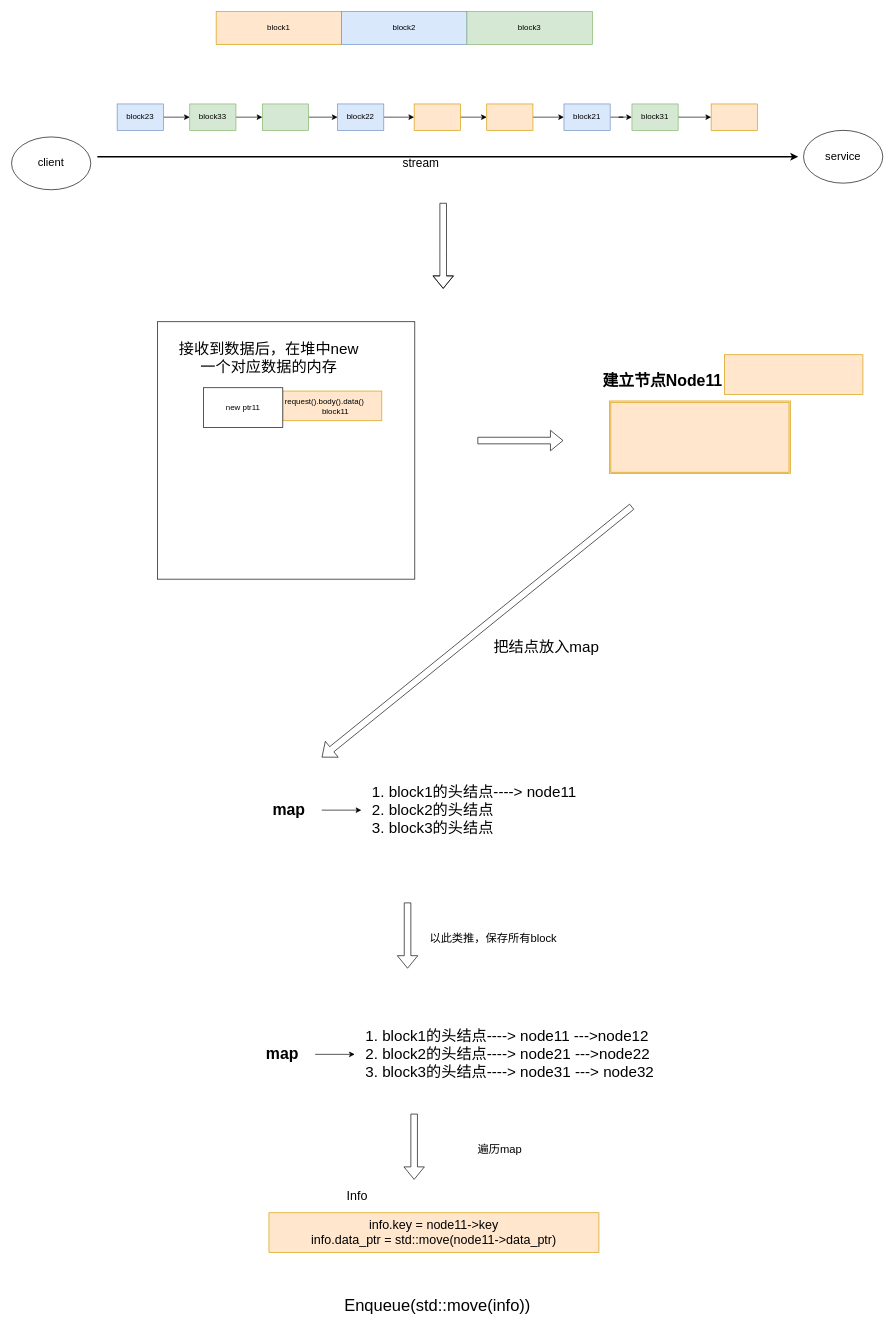
The diagram is 894 pixels wide and 1330 high, and some of its shapes have lost their labels. Each missing label, with the centre of its shape:
block ID 内存电网数据的key data_ptr = std::move(ptr11): pixel 699 437
block11: pixel 733 116
block12: pixel 509 116
block13: pixel 436 116
block32: pixel 285 116
unique_ptr<Node> node11: pixel 793 374
